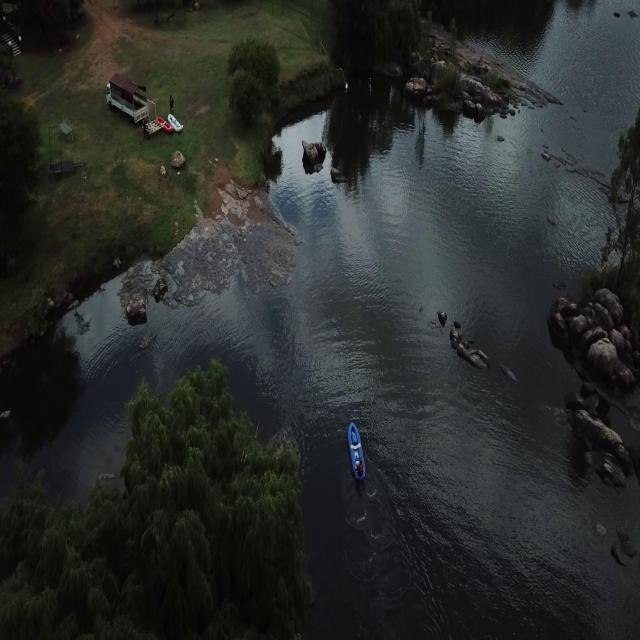kayak: (342, 421, 370, 483)
